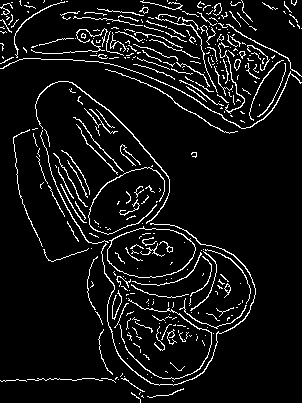cucumber: (10, 1, 295, 125), (17, 75, 174, 231), (110, 305, 219, 386), (97, 223, 204, 284)
